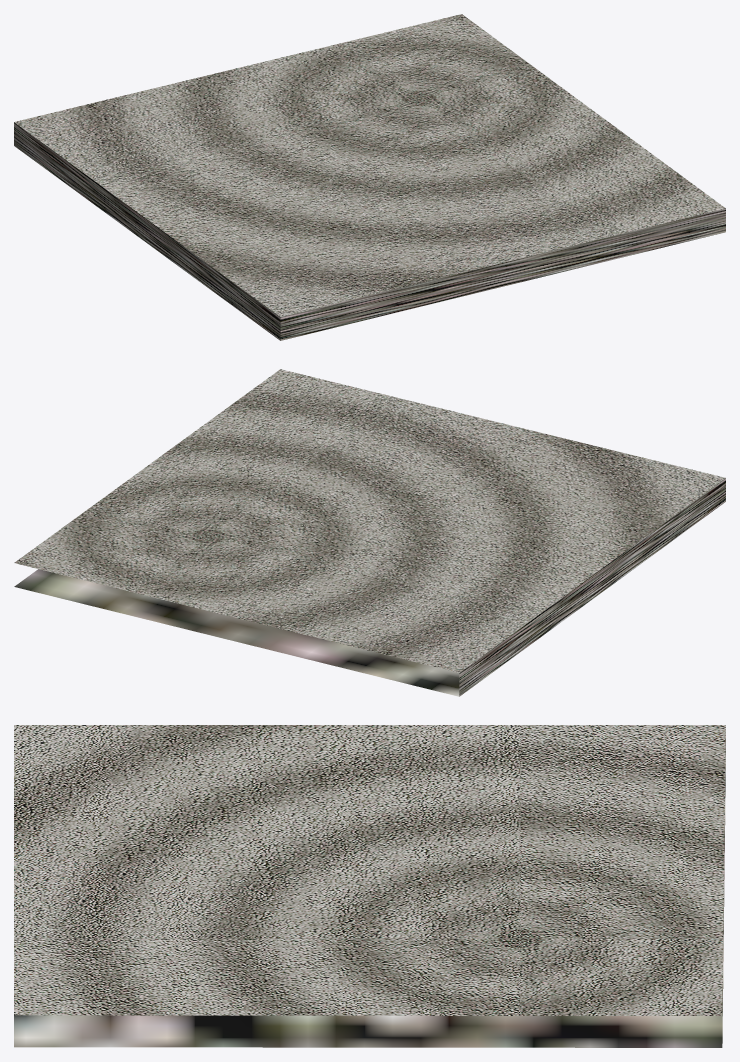
The model's file is sand8.fbx.
The picture shows the model from 3 angles, top to bottom: view 1: azimuth 30°, elevation 25°; view 2: azimuth 150°, elevation 25°; view 3: azimuth 270°, elevation 25°; orthographic projection. The views are drawn at different scales.
Parts seen in each view (by area): view 1: pCube1; view 2: pCube1; view 3: pCube1.
Part boxes in pixels (x1,y1,x2,y2): pCube1: (14,14,725,340); pCube1: (14,369,725,696); pCube1: (14,725,725,1047).
Size of the model in its own units: 85.69 by 4.37 by 88.56.
Materials: 1 (1 with a texture image).
